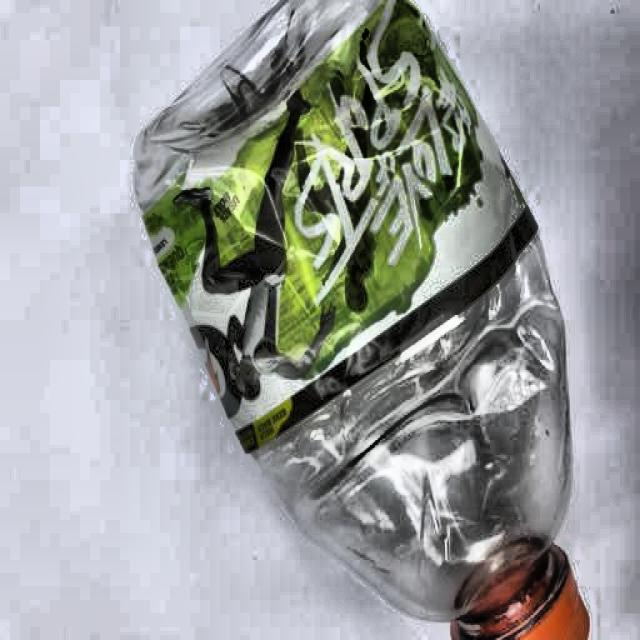plastic: (134, 0, 592, 640)
